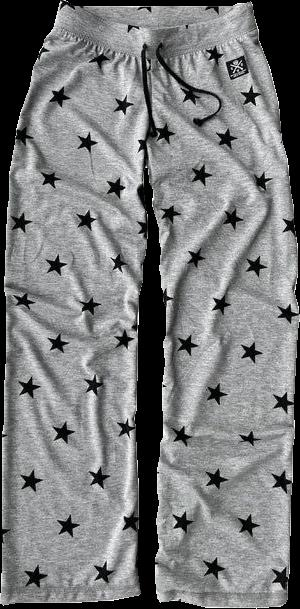Hemline: (1, 589, 143, 606), (157, 595, 289, 608)
Pantleg: (148, 2, 298, 607), (2, 3, 150, 604)
Waistline: (52, 22, 261, 64), (59, 0, 252, 30)
